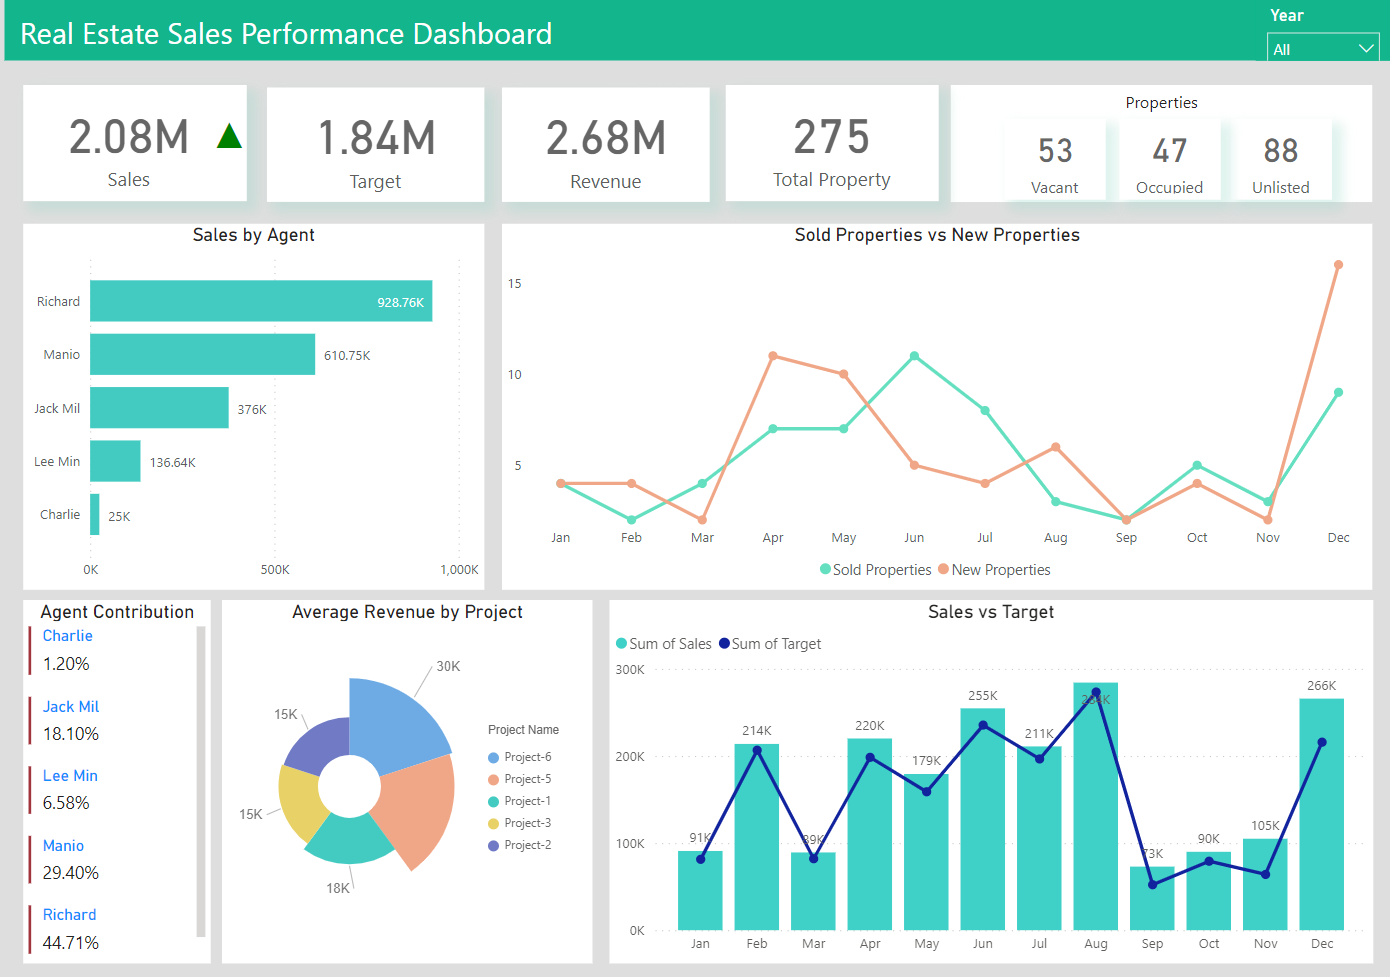

The dashboard page shown, as its layout file describes it:
{"tool":"powerbi","page":{"name":"Page 1","canvas":[1279,900],"ordinal":0},"visuals":[{"type":"shape","box":[11.2,0,1260,55],"z":0},{"type":"textbox","box":[11.2,6.2,512.5,48.8],"z":1000},{"type":"card","fields":{"Values":["Real Estate Data.Sales"]},"box":[28.2,77.6,203.2,105.8],"z":2000},{"type":"card","fields":{"Values":["Real Estate Data.Target"]},"box":[249.7,79,197.5,104.4],"z":3000},{"type":"card","fields":{"Values":["Real Estate Data.Revenue"]},"box":[464.1,79,189,104.4],"z":4000},{"type":"textbox","box":[871.9,77.4,383.5,106],"z":5000},{"type":"card","fields":{"Values":["Real Estate Data.Total Property"]},"box":[667.3,77.6,193.3,105.8],"z":6000},{"type":"card","fields":{"Values":["Real Estate Data.Property Status"]},"box":[921,108,91.7,73.4],"z":7000},{"type":"card","fields":{"Values":["Real Estate Data.Property Status"]},"box":[1125.8,108,91.7,73.4],"z":7002},{"type":"card","fields":{"Values":["Real Estate Data.Property Status"]},"box":[1025,108,91.7,73.4],"z":7003},{"type":"barChart","fields":{"Category":["Real Estate Data.Agent"],"Y":["Real Estate Data.Sales"]},"box":[28.2,203.2,419,332.9],"z":7004},{"type":"lineChart","title":"Sold Properties vs New Properties","fields":{"Category":["Dimdate.Month_Name_Short"],"Y":["Real Estate Data.Sold Properties","Real Estate Data.New Properties"]},"box":[464.1,203.2,791.4,332.9],"z":7005},{"type":"multiRowCard","title":"Agent Contribution","fields":{"Values":["Real Estate Data.Agent","Real Estate Data.Agent Contribution"]},"box":[28.2,546,170.7,330.1],"z":7006},{"type":"AsterPlot1443303142064","title":"Average Revenue by Project","fields":{"Category":["Real Estate Data.Project Name"],"Y":["Real Estate Data.Revenue"]},"box":[208.8,546,337.2,330.1],"z":7007},{"type":"lineStackedColumnComboChart","title":"Sales vs Target","fields":{"Category":["Dimdate.Month_Name_Short"],"Y":["Real Estate Data.Sales"],"Y2":["Real Estate Data.Target"]},"box":[561.5,546,694.1,330.1],"z":7008},{"type":"slicer","fields":{"Values":["Dimdate.Year"]},"box":[1148.4,0,122.7,55],"z":7009},{"type":"card","fields":{"Values":["Real Estate Data.Icon Sales"]},"box":[193.3,97.3,45.1,48],"z":7010}]}

Visuals, with their boxes in screenshot pixels (x1, y1, x2, y2), scaled from the page's 1279x900 canvas onto the 1390x977 screenshot:
shape: (x1=12, y1=0, x2=1382, y2=60)
textbox: (x1=12, y1=7, x2=569, y2=60)
card - Real Estate Data.Sales: (x1=31, y1=84, x2=251, y2=199)
card - Real Estate Data.Target: (x1=271, y1=86, x2=486, y2=199)
card - Real Estate Data.Revenue: (x1=504, y1=86, x2=710, y2=199)
textbox: (x1=948, y1=84, x2=1364, y2=199)
card - Real Estate Data.Total Property: (x1=725, y1=84, x2=935, y2=199)
card - Real Estate Data.Property Status: (x1=1001, y1=117, x2=1101, y2=197)
card - Real Estate Data.Property Status: (x1=1224, y1=117, x2=1323, y2=197)
card - Real Estate Data.Property Status: (x1=1114, y1=117, x2=1214, y2=197)
barChart - Real Estate Data.Agent x Real Estate Data.Sales: (x1=31, y1=221, x2=486, y2=582)
"Sold Properties vs New Properties" lineChart: (x1=504, y1=221, x2=1364, y2=582)
"Agent Contribution" multiRowCard: (x1=31, y1=593, x2=216, y2=951)
"Average Revenue by Project" AsterPlot1443303142064: (x1=227, y1=593, x2=593, y2=951)
"Sales vs Target" lineStackedColumnComboChart: (x1=610, y1=593, x2=1365, y2=951)
slicer - Dimdate.Year: (x1=1248, y1=0, x2=1381, y2=60)
card - Real Estate Data.Icon Sales: (x1=210, y1=106, x2=259, y2=158)
